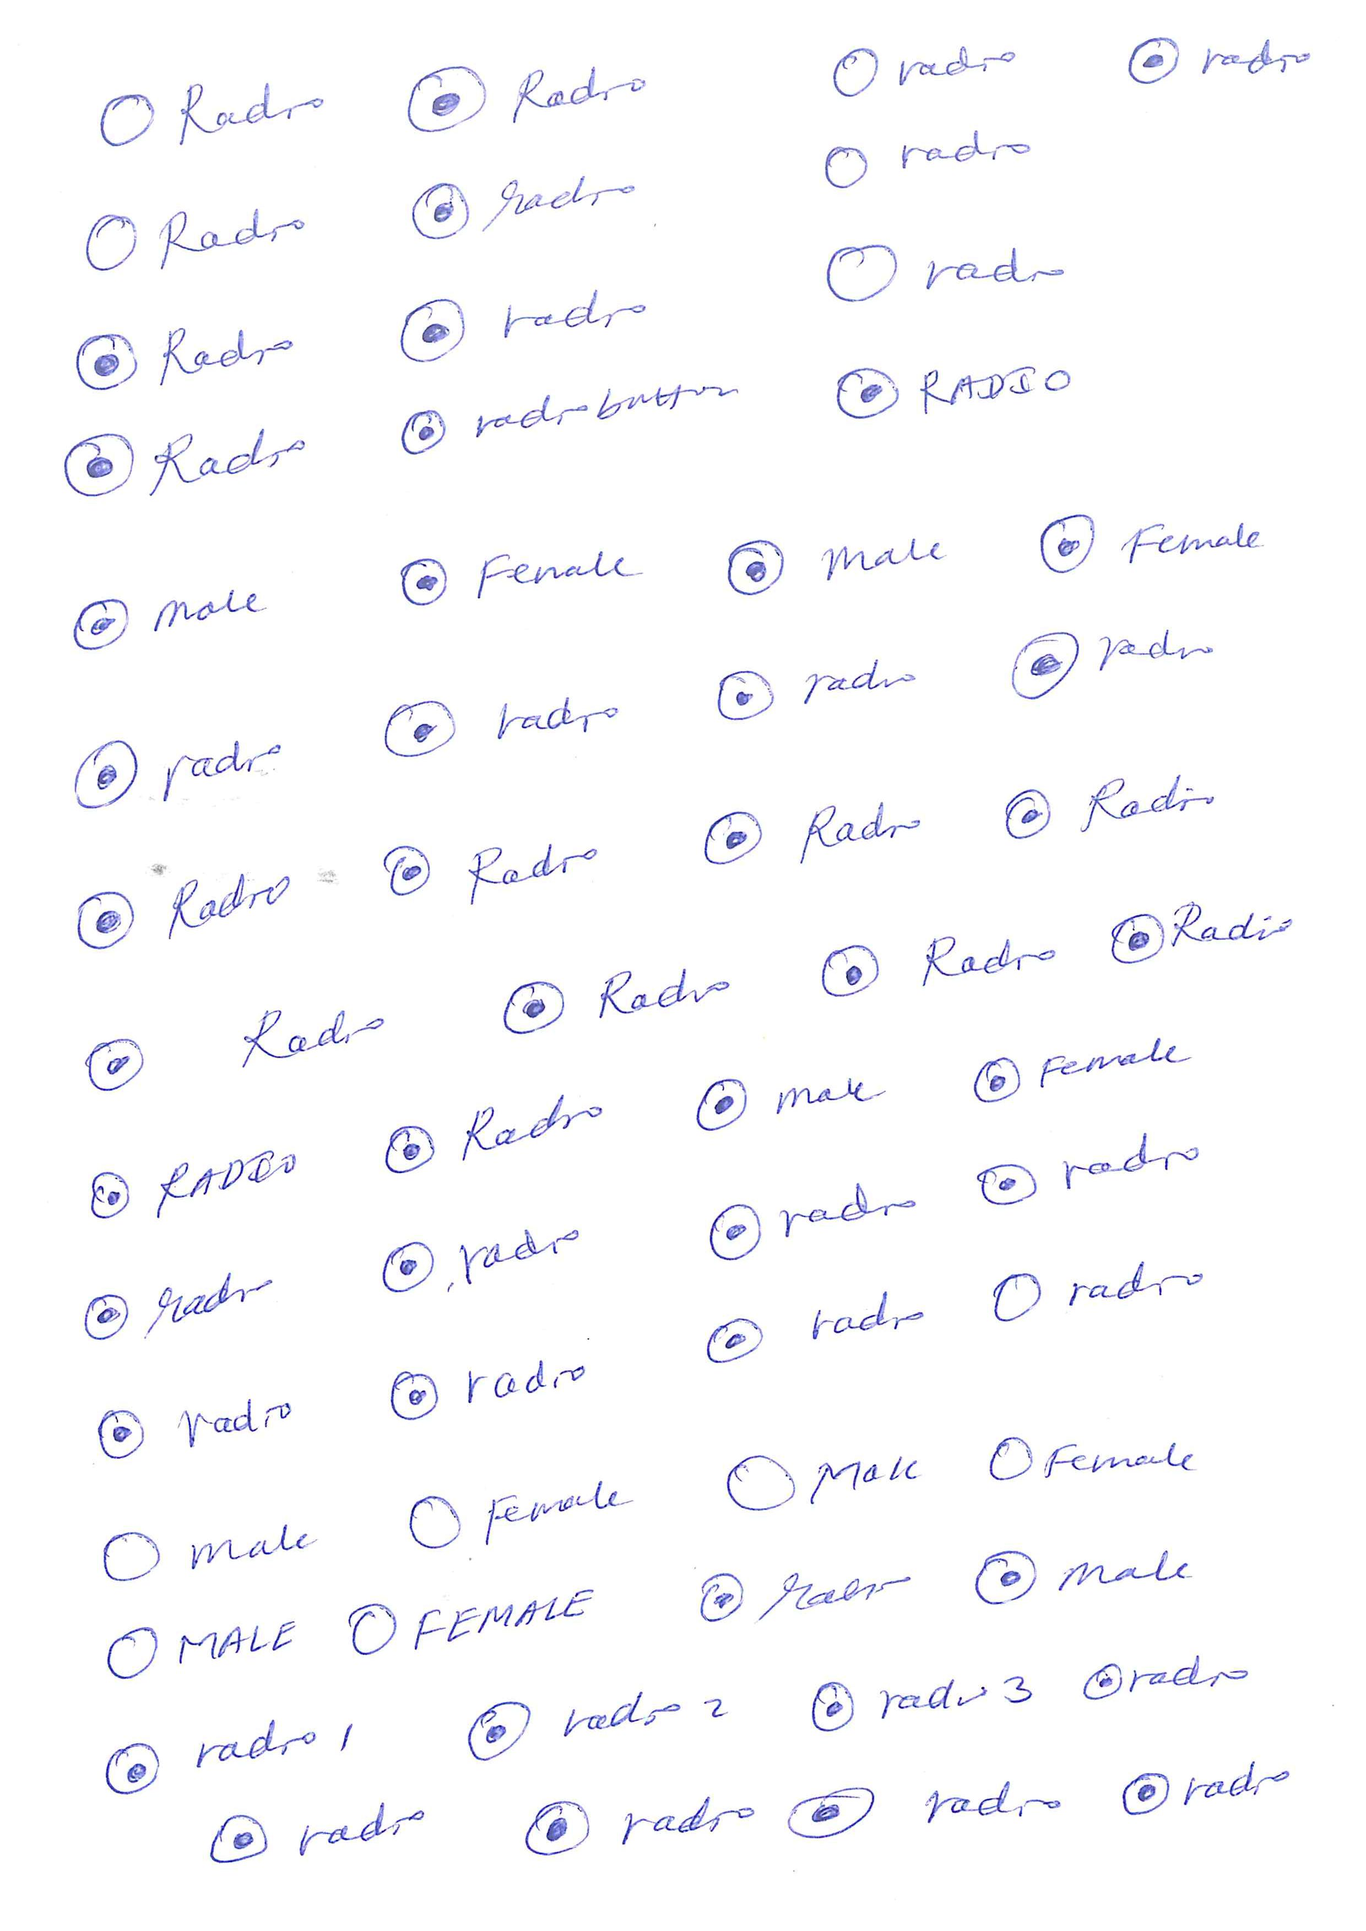Radio Button: (399, 377, 751, 457), (102, 1714, 356, 1796), (463, 1689, 727, 1764), (399, 285, 653, 362), (378, 1096, 605, 1181), (62, 424, 309, 501), (816, 926, 1066, 1001), (701, 1283, 922, 1368), (347, 1582, 594, 1657), (707, 1178, 921, 1263), (407, 59, 646, 135), (982, 1130, 1206, 1209), (89, 1146, 297, 1232), (67, 730, 284, 812), (72, 871, 284, 952), (504, 963, 736, 1036), (404, 169, 639, 241), (696, 790, 917, 866), (996, 769, 1220, 844), (81, 204, 309, 276), (381, 693, 621, 761), (407, 1476, 621, 1551), (98, 81, 327, 151), (1010, 627, 1220, 702), (834, 361, 1076, 424), (974, 1034, 1186, 1106), (381, 1221, 582, 1297), (823, 241, 1061, 305), (72, 322, 294, 390), (78, 1269, 271, 1347), (809, 1672, 1044, 1736), (1036, 512, 1265, 577), (381, 835, 599, 903), (387, 1354, 587, 1428), (396, 547, 633, 609), (718, 534, 945, 597), (711, 656, 922, 724), (64, 584, 269, 654), (971, 1547, 1196, 1609), (988, 1260, 1206, 1323), (92, 1521, 321, 1582), (203, 1804, 424, 1866), (724, 1446, 922, 1516), (103, 1612, 297, 1681), (520, 1799, 757, 1856), (693, 1566, 912, 1626), (96, 1396, 294, 1462), (822, 132, 1032, 194), (1109, 900, 1297, 967), (692, 1072, 883, 1134), (829, 41, 1022, 101), (1112, 1759, 1289, 1819), (982, 1436, 1195, 1484), (1076, 1657, 1249, 1703)
